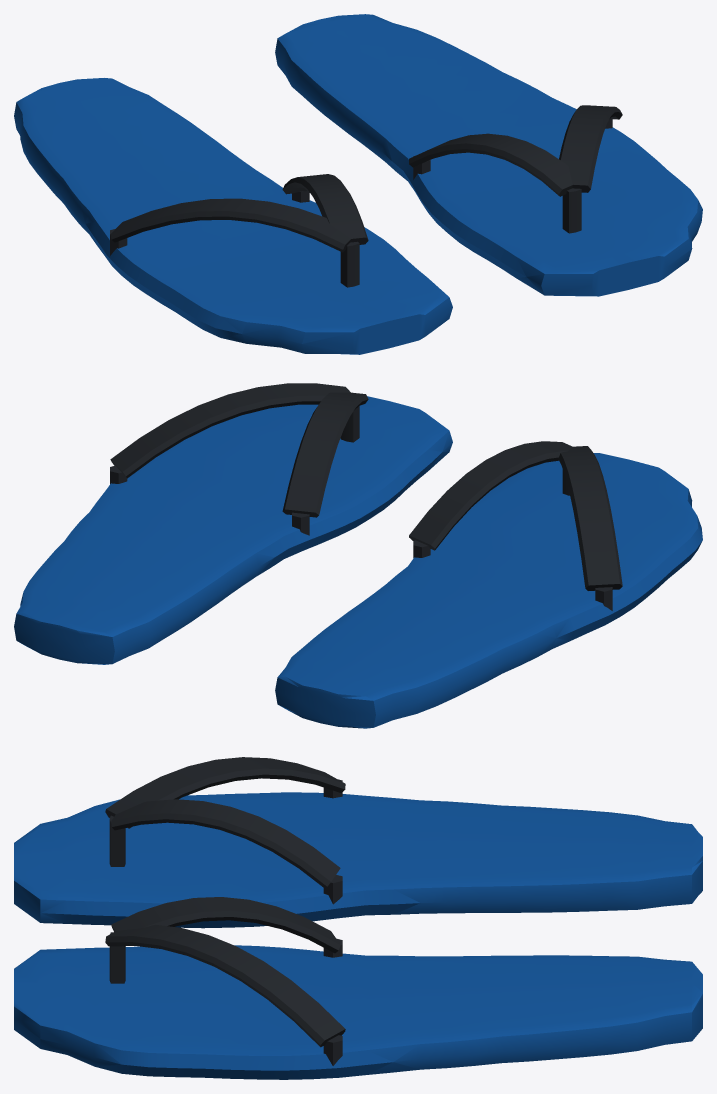
The model's file is dep_tong_vn.mid.glb.
3 views of the same model, one above another, from view 1: azimuth 30°, elevation 25°; view 2: azimuth 150°, elevation 25°; view 3: azimuth 270°, elevation 25° (orthographic). The views are drawn at different scales.
Parts seen in each view (by area): view 1: dep_tong_vn; view 2: dep_tong_vn; view 3: dep_tong_vn.
Boxes of the visible parts, bbox=[...] form: dep_tong_vn: bbox=[14, 14, 702, 354]; dep_tong_vn: bbox=[14, 383, 702, 728]; dep_tong_vn: bbox=[14, 757, 702, 1079].
Size of the model in its own units: 0.2345 by 0.0385 by 0.2537.
